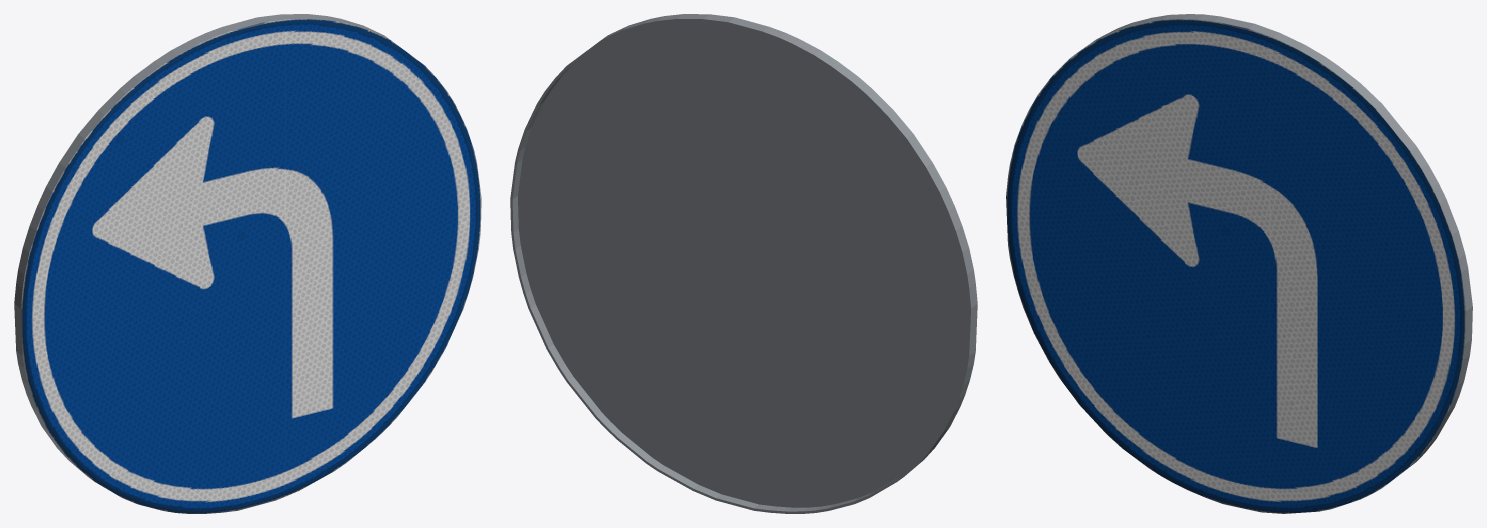
3 renders of one model, left to right at view 1: azimuth 30°, elevation 25°; view 2: azimuth 150°, elevation 25°; view 3: azimuth 330°, elevation 25°, orthographic.
Parts seen in each view (by area): view 1: cat_5724b954fc50a06c; view 2: cat_5724b954fc50a06c; view 3: cat_5724b954fc50a06c.
Part boxes in pixels (x1,y1,x2,y2): cat_5724b954fc50a06c: (14, 14, 481, 513); cat_5724b954fc50a06c: (510, 14, 977, 513); cat_5724b954fc50a06c: (1006, 14, 1472, 513).
Size of the model in its own units: 0.6 by 0.015 by 0.6.
Materials: 2 (1 with a texture image).
